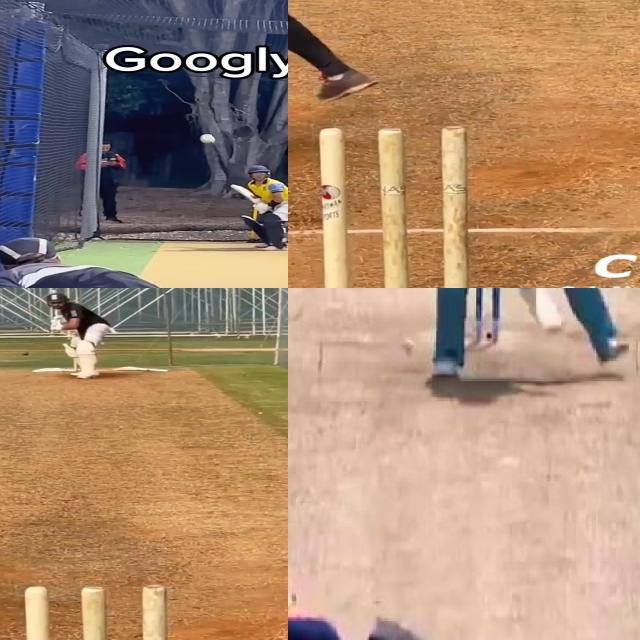Cricket ball: (317, 125, 470, 288), (23, 584, 175, 640), (400, 338, 417, 360), (198, 132, 217, 144), (21, 351, 30, 355)
